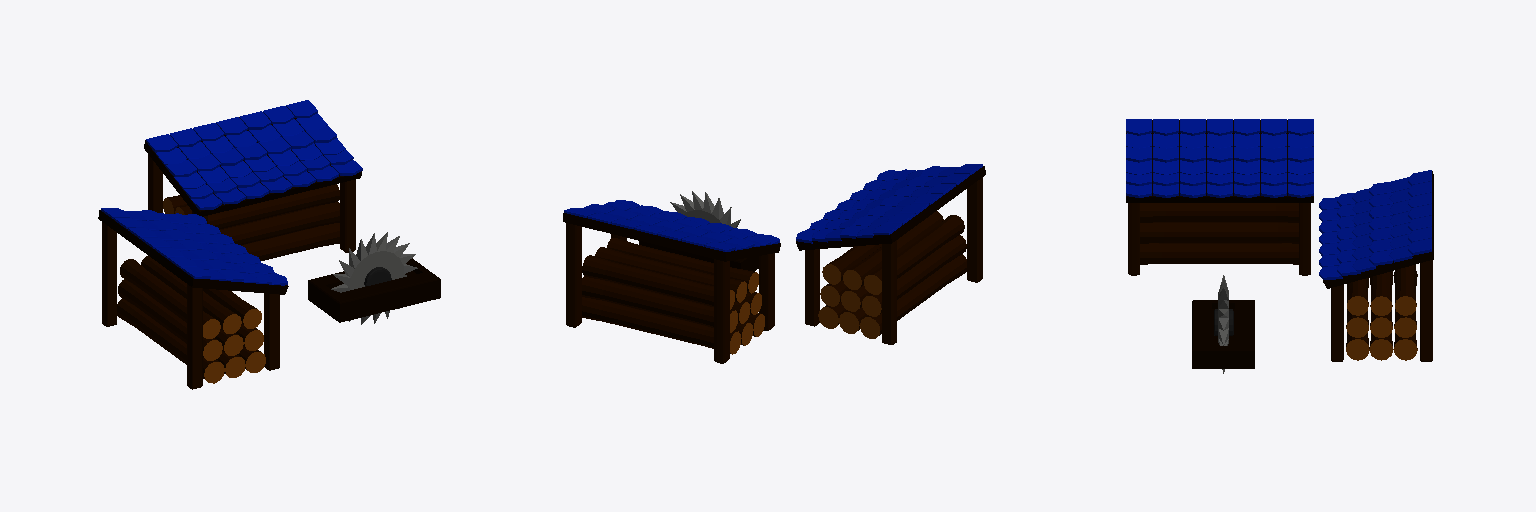
File: LumberMill_BlueTeam.obj
3 renders of one model, left to right at view 1: azimuth 30°, elevation 25°; view 2: azimuth 150°, elevation 25°; view 3: azimuth 270°, elevation 25°, orthographic.
Visible parts, largest first — view 1: LumberMill_BlueTeam_Cube.001; view 2: LumberMill_BlueTeam_Cube.001; view 3: LumberMill_BlueTeam_Cube.001.
Boxes of the visible parts, x1,y1,x2,y2 form: LumberMill_BlueTeam_Cube.001: [98, 100, 440, 389]; LumberMill_BlueTeam_Cube.001: [563, 164, 985, 363]; LumberMill_BlueTeam_Cube.001: [1126, 119, 1433, 373].
Bounding box in the file's own units: 25.89 × 12.21 × 24.56.